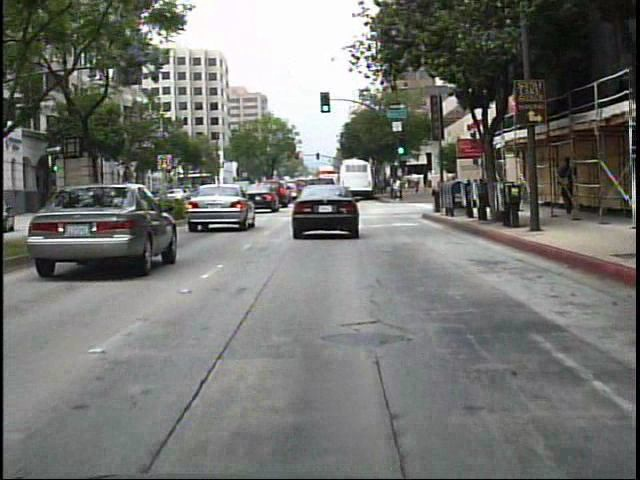person: (552, 155, 583, 222)
